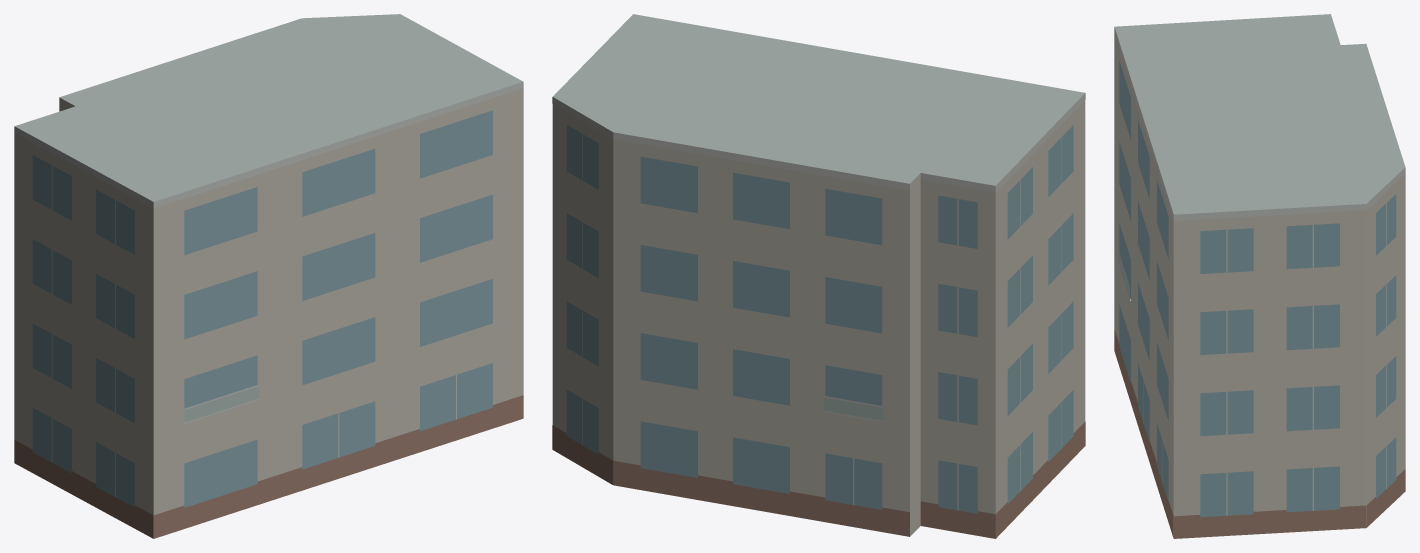
File: survey-upis-32928514.glb
3 views of the same model, side by side, from view 1: azimuth 30°, elevation 25°; view 2: azimuth 150°, elevation 25°; view 3: azimuth 270°, elevation 25° (orthographic). The views are drawn at different scales.
Parts seen in each view (by area): view 1: survey-upis-32928514.tmp; view 2: survey-upis-32928514.tmp; view 3: survey-upis-32928514.tmp.
Boxes of the visible parts, x1,y1,x2,y2 form: survey-upis-32928514.tmp: (14,14,523,538); survey-upis-32928514.tmp: (552,14,1085,538); survey-upis-32928514.tmp: (1114,14,1405,538).
Bounding box in the file's own units: 16.61 × 12.5 × 10.18.
